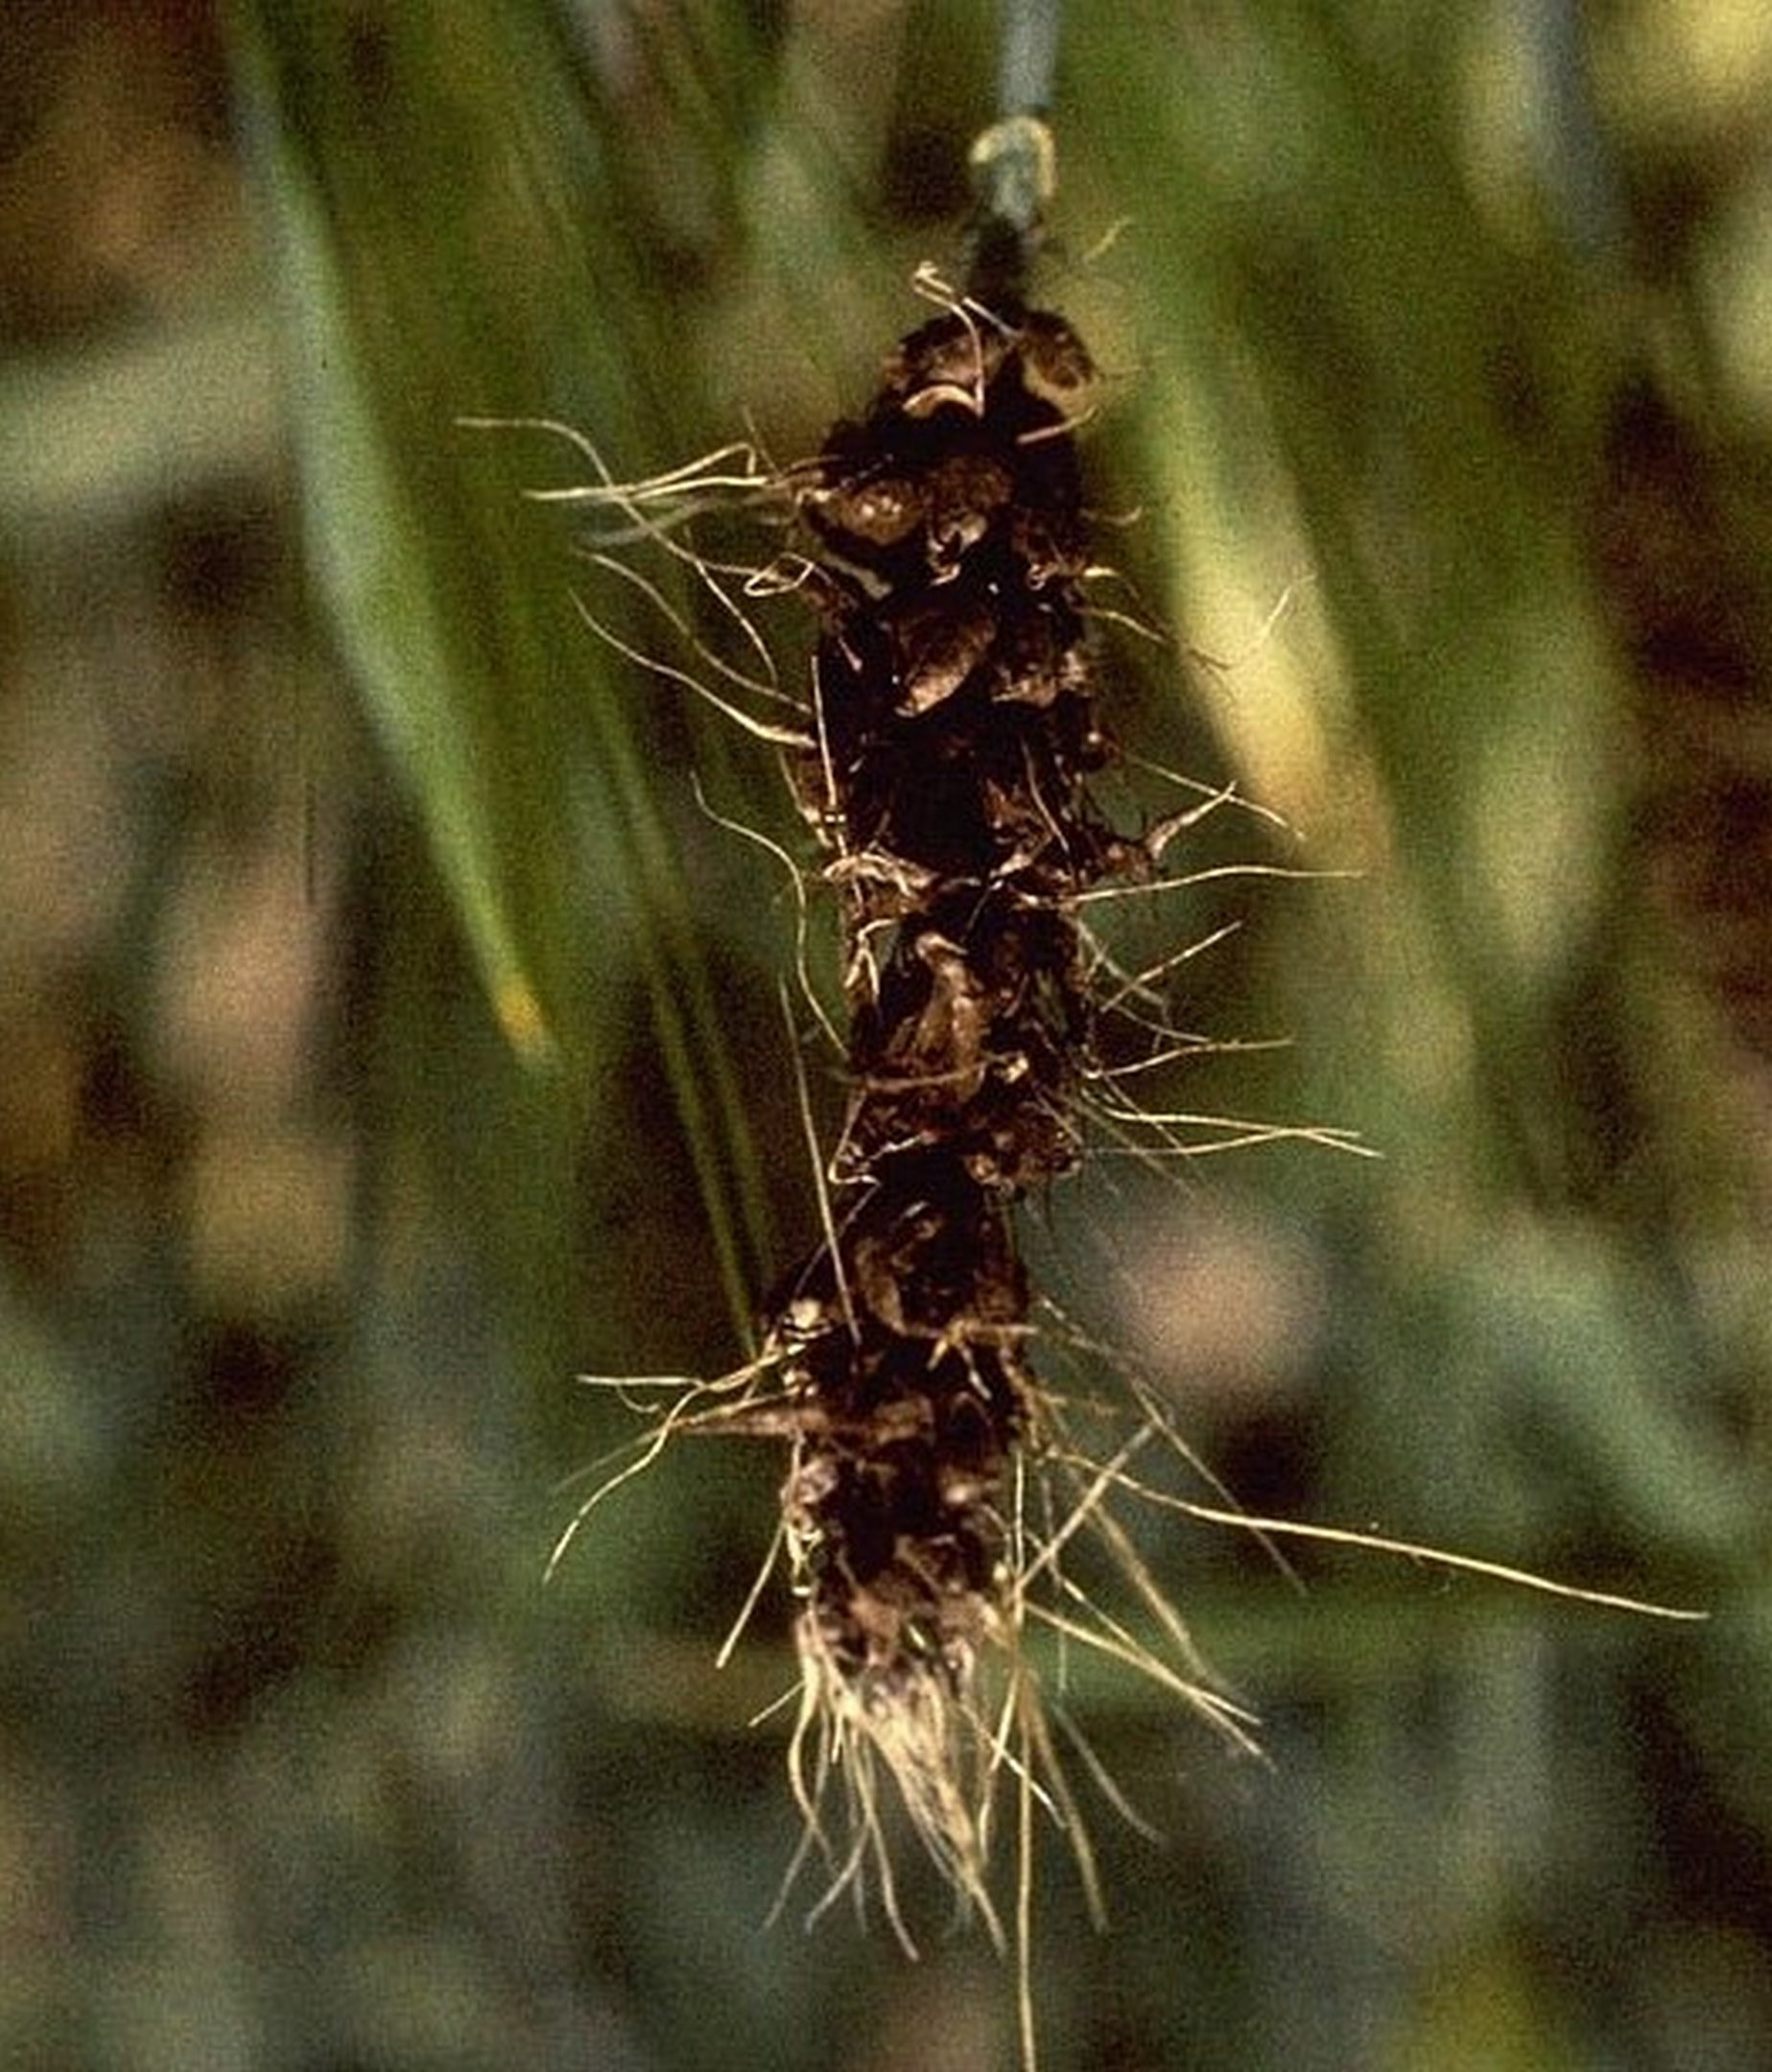Wheat Loose Smut: (577, 411, 1366, 1958)
